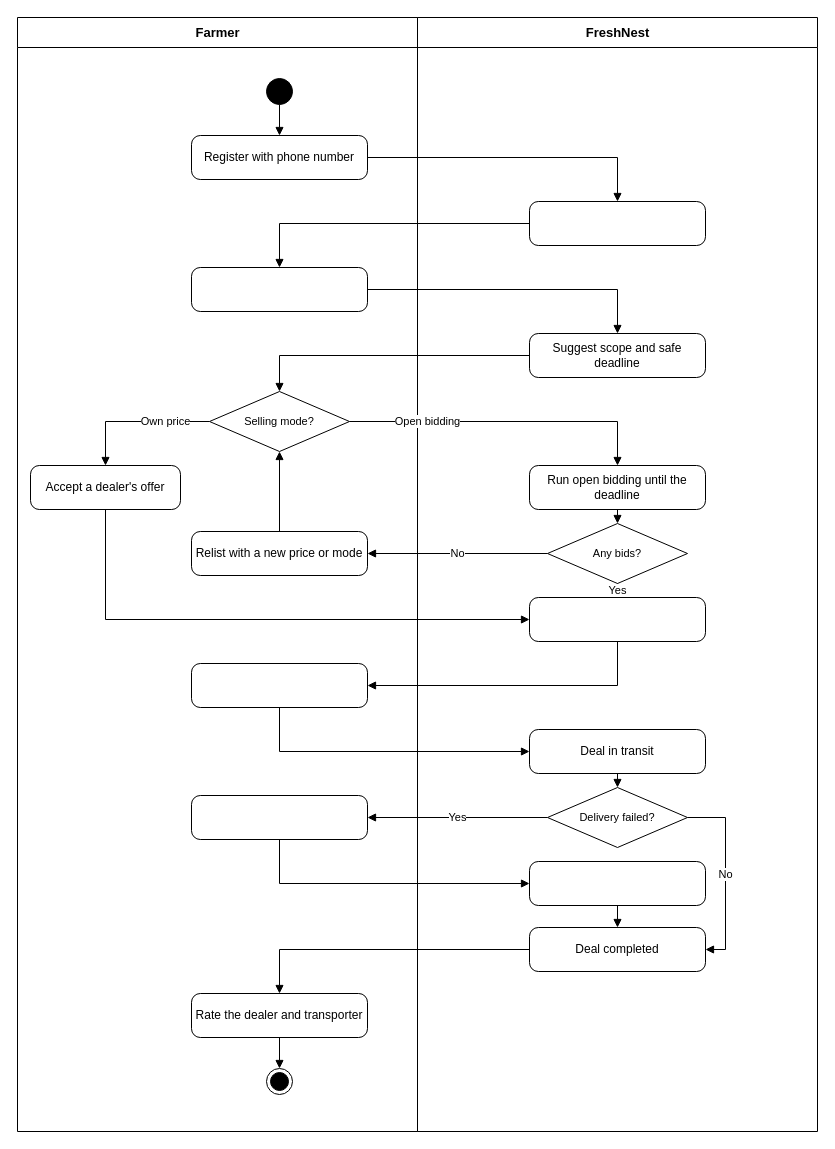
The diagram is 835 pixels wide and 1149 high, and some of its shapes have lost their labels. The shapes that lost their labels are listed below. From the top down, each one's centre as x and y in pixels, then its label:
At [617,223]: "Open the account at once".
At [279,289]: "Create a listing".
At [617,619]: "Create the deal".
At [279,685]: "Give the pickup code to the driver".
At [279,817]: "Set the emergency sale (time, price drop)".
At [617,883]: "Sell to dealers near the vehicle".
